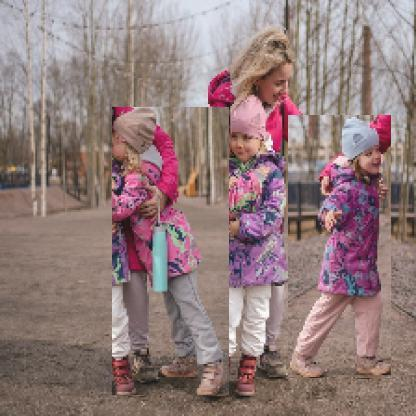child: (113, 108, 231, 397), (289, 116, 393, 380), (204, 94, 290, 401)
